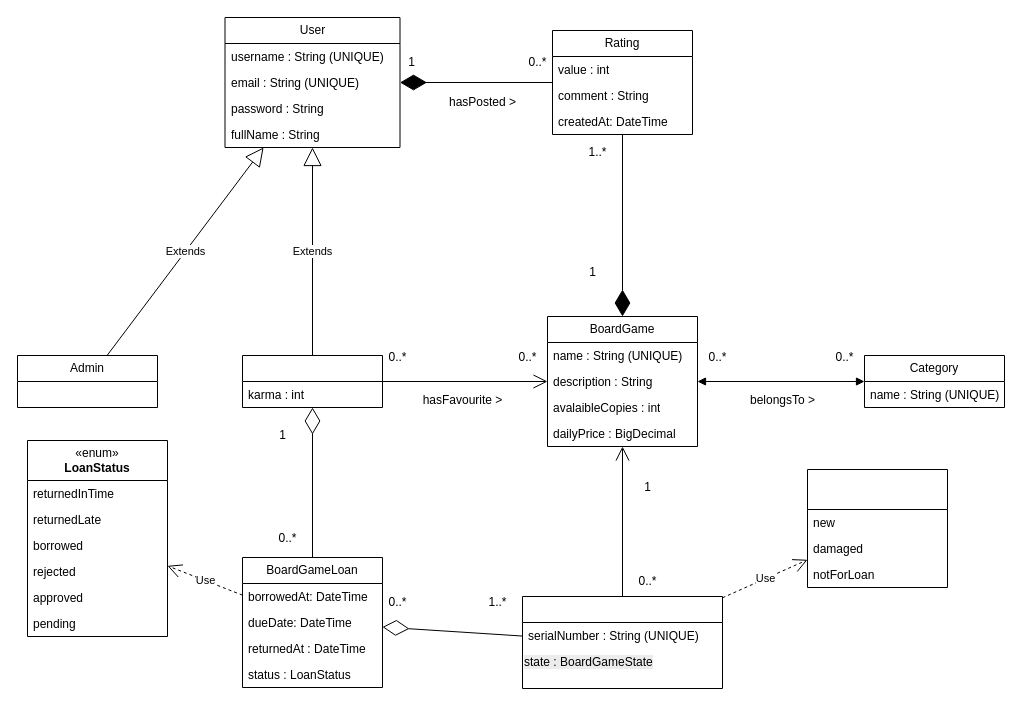
This 1022x708 diagram has some shape labels left out. Here are the shapes that lost their labels. From the top down, the box of each, then its label:
(242, 354, 382, 408): RegisteredUser
(806, 468, 948, 588): «enum» BoardGameState
(522, 596, 722, 688): BoardGameItem
